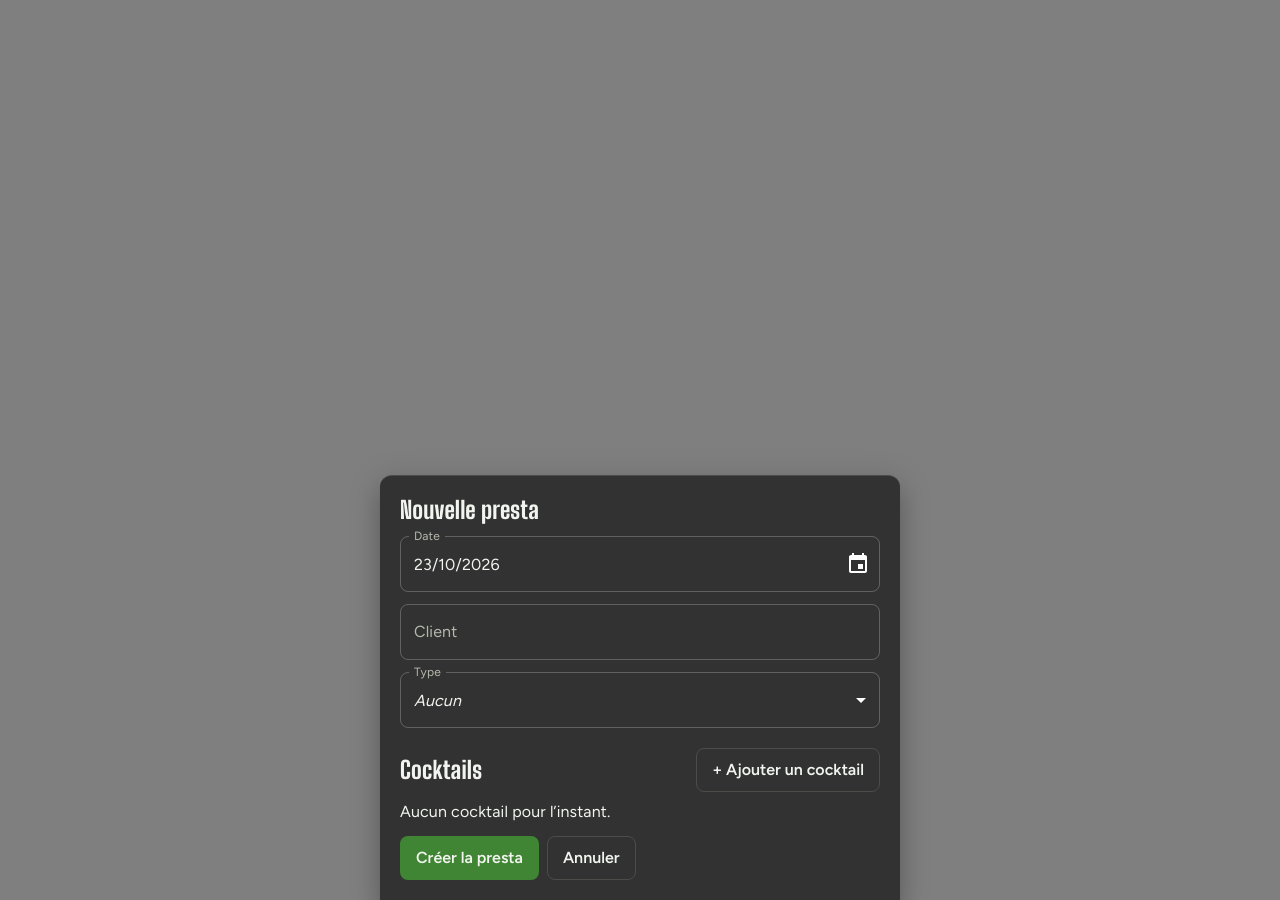
Test case: EcranNouvellePresta › ne repropose pas un cocktail déjà sur la carte, et le retire sans confirmation
Click the button "+ Ajouter un cocktail". click: (788, 770)
box: [696,748,880,792]
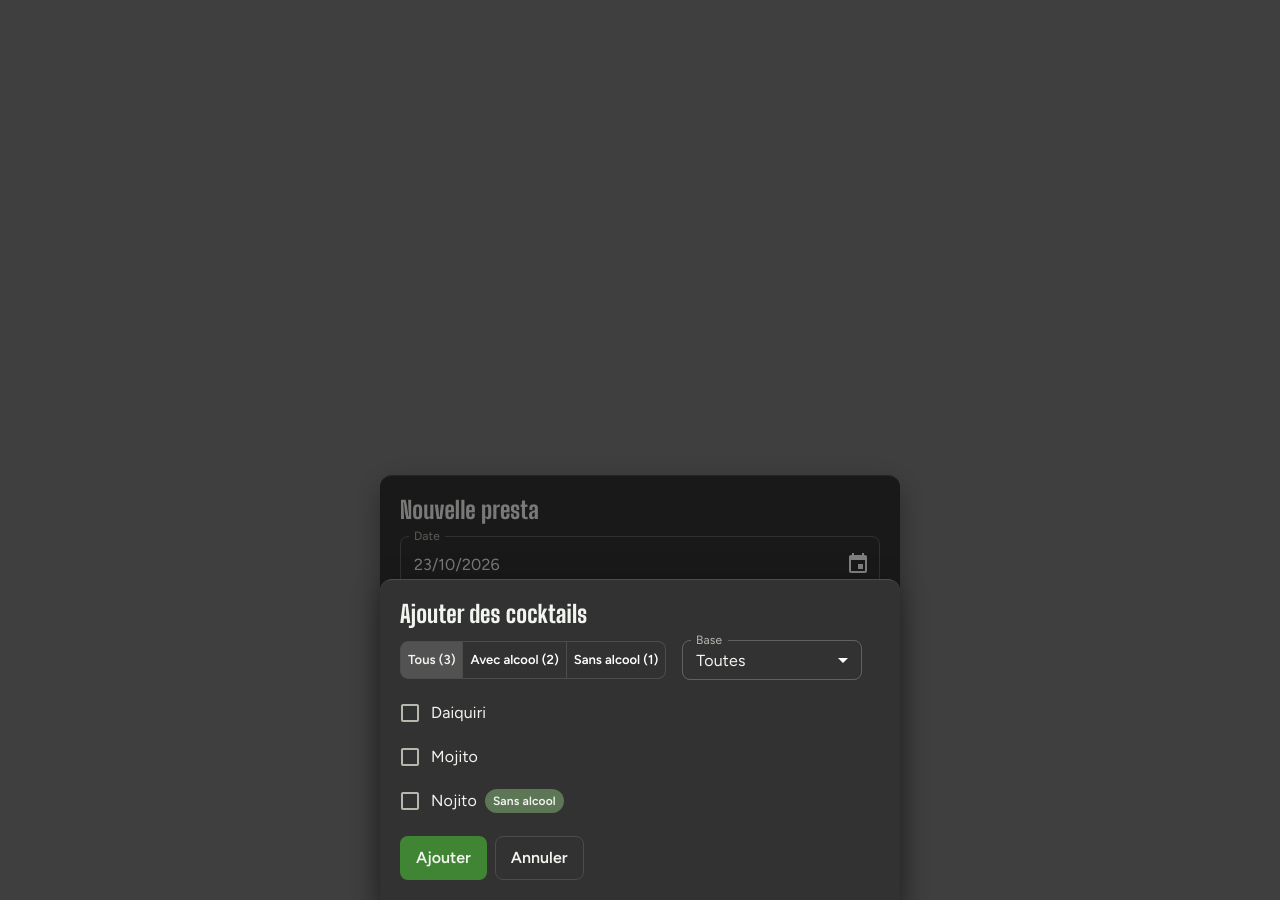
Click the checkbox labelled "Mojito". click: (438, 757)
box: [398,745,478,769]
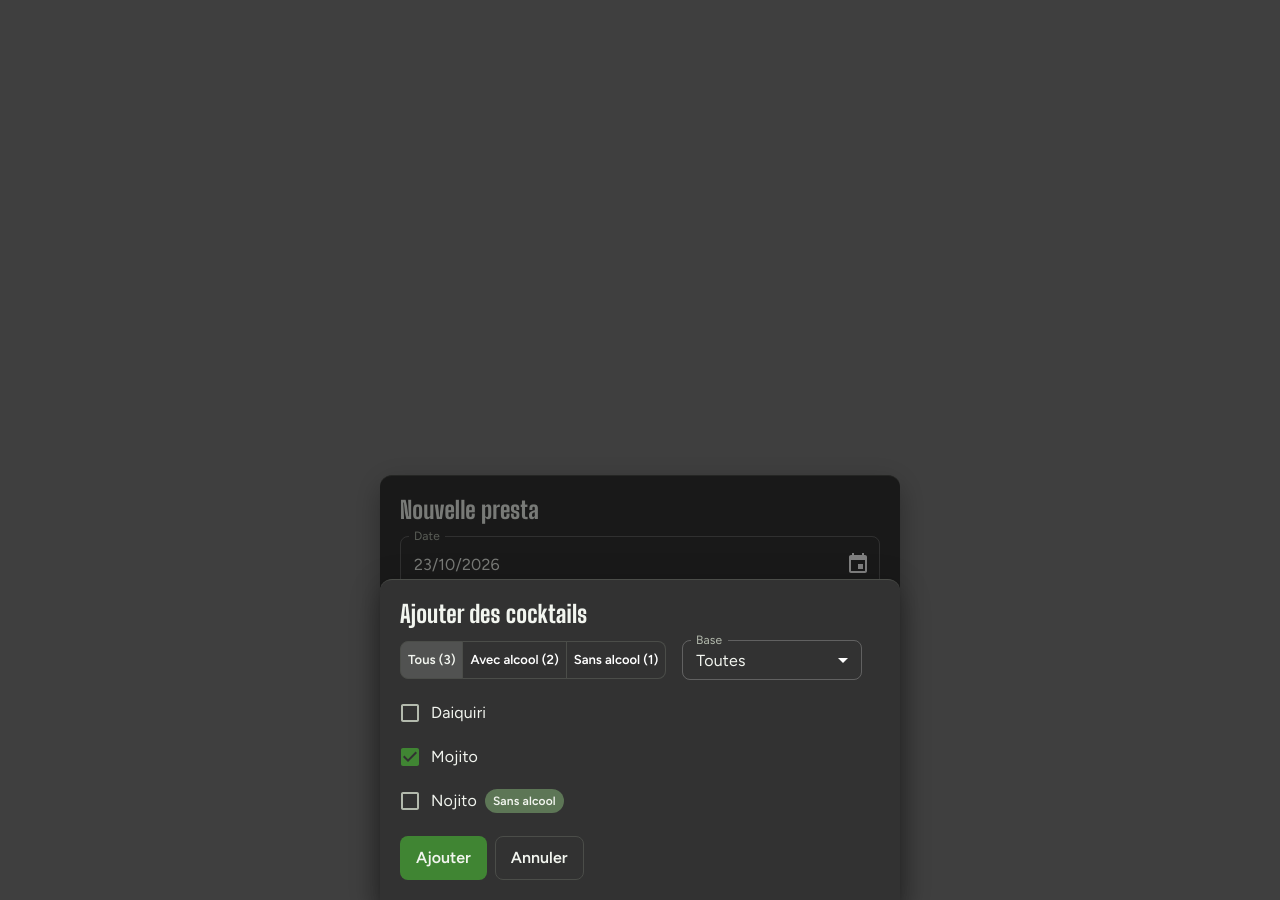
Click the button "Ajouter". click: (443, 858)
box: [400,836,487,880]
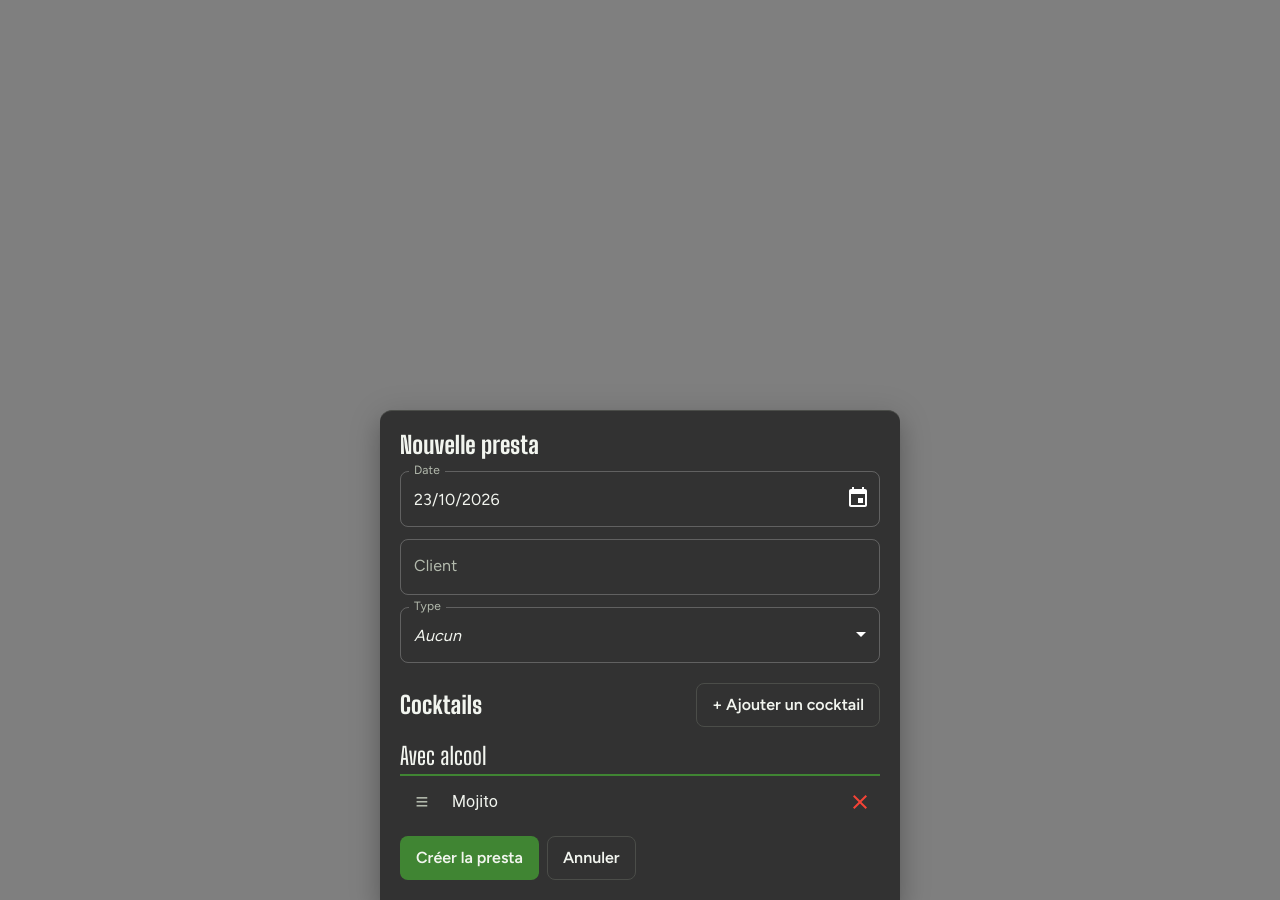
Click the button "+ Ajouter un cocktail". click: (788, 704)
box: [696,682,880,726]
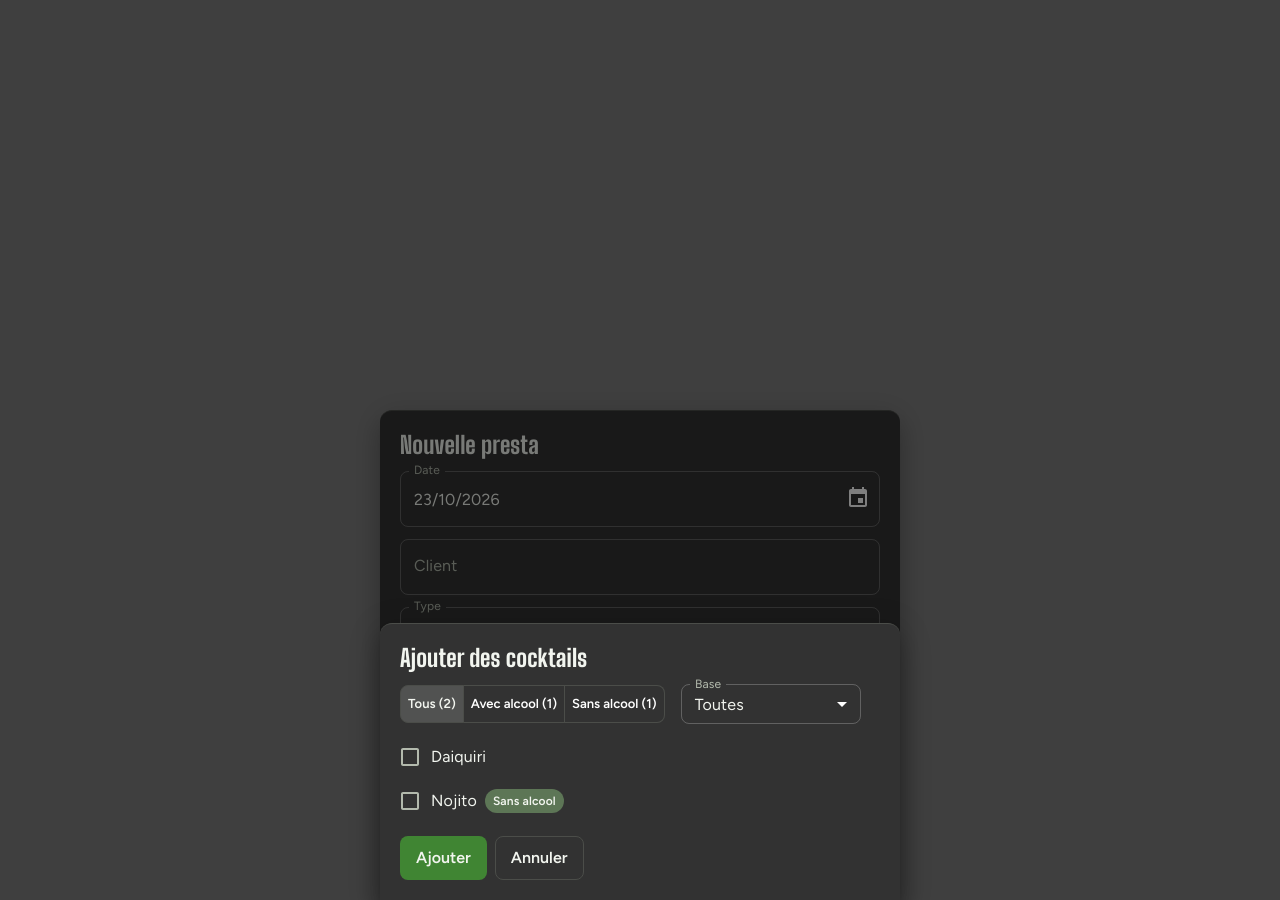
Click the button "Annuler". click: (539, 858)
box: [495,836,584,880]
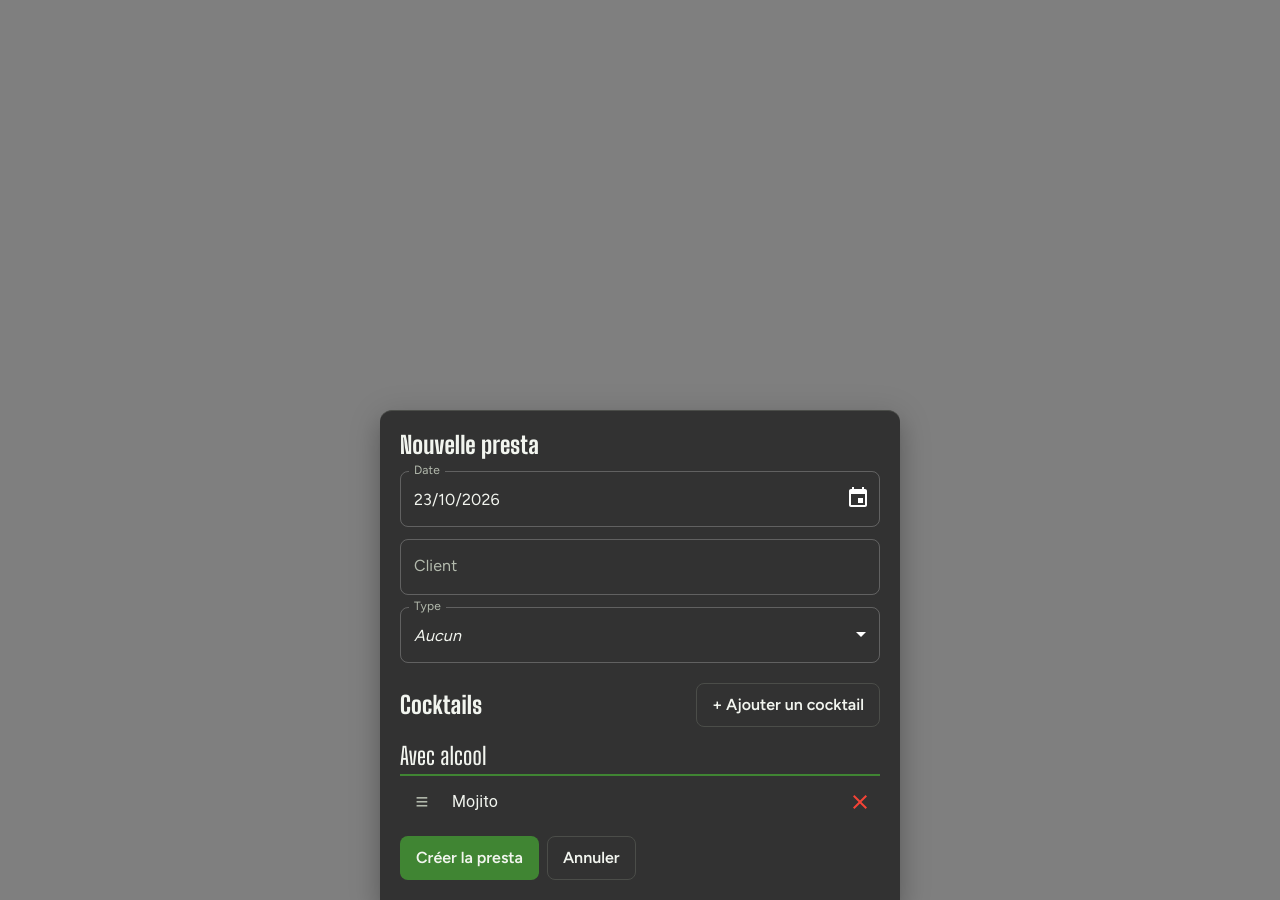
Click the button named "Retirer Mojito". click: (860, 802)
box: [840,782,880,822]
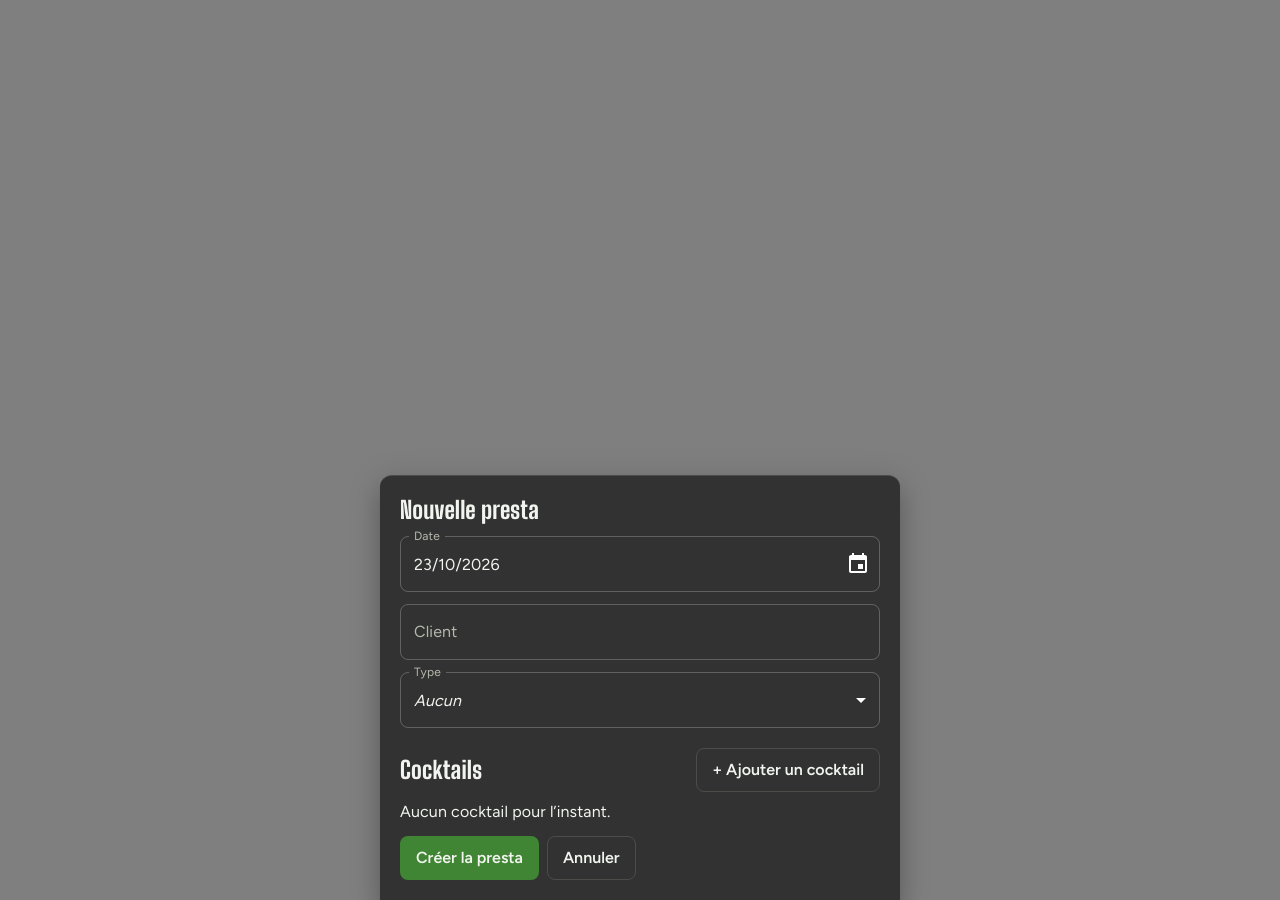
Check: the heading "Avec alcool" is gone
